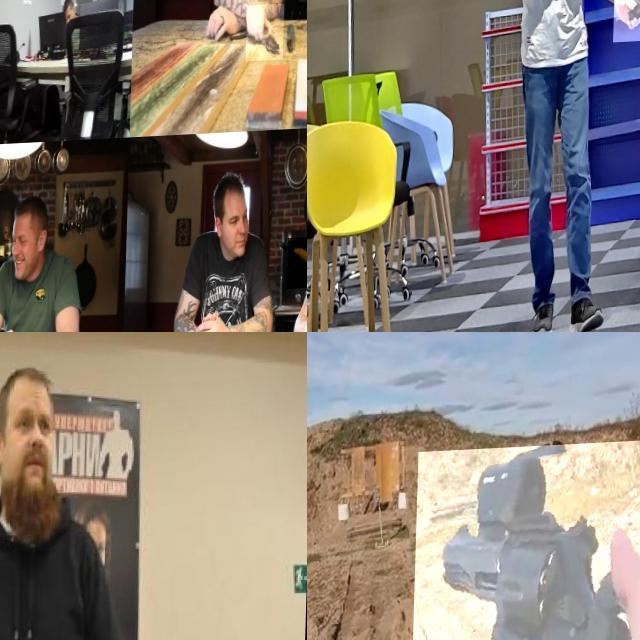-: (248, 8, 286, 66), (289, 241, 307, 294), (0, 33, 12, 74)
gun-knife-thesis - v11 Yolov5 augmented: (408, 443, 640, 640), (614, 0, 640, 47)
